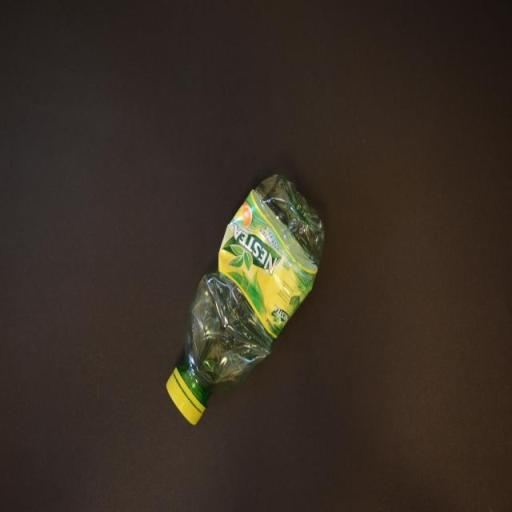plastic: (166, 173, 326, 427)
